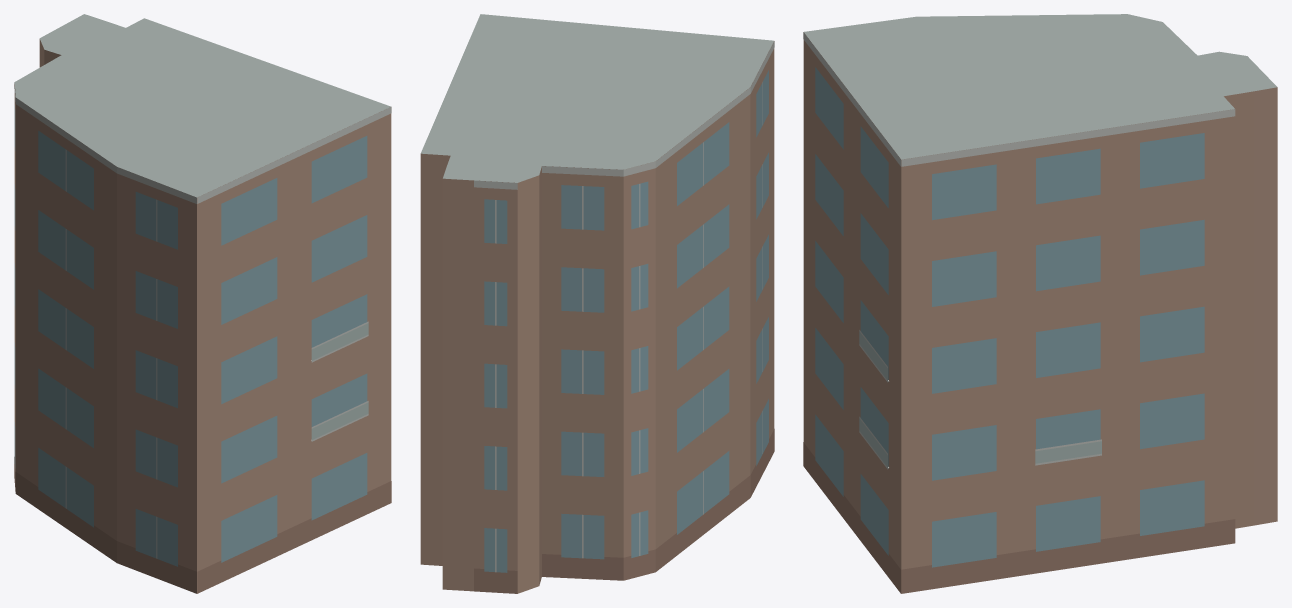
File: survey-upis-32688082.glb
3 renders of one model, left to right at view 1: azimuth 30°, elevation 25°; view 2: azimuth 150°, elevation 25°; view 3: azimuth 270°, elevation 25°, orthographic. The views are drawn at different scales.
Visible parts, largest first — view 1: survey-upis-32688082.tmp; view 2: survey-upis-32688082.tmp; view 3: survey-upis-32688082.tmp.
Boxes of the visible parts, x1,y1,x2,y2 form: survey-upis-32688082.tmp: (14, 14, 391, 593); survey-upis-32688082.tmp: (420, 14, 774, 593); survey-upis-32688082.tmp: (803, 14, 1277, 593).
Size of the model in its own units: 10.43 by 14.5 by 14.35.
